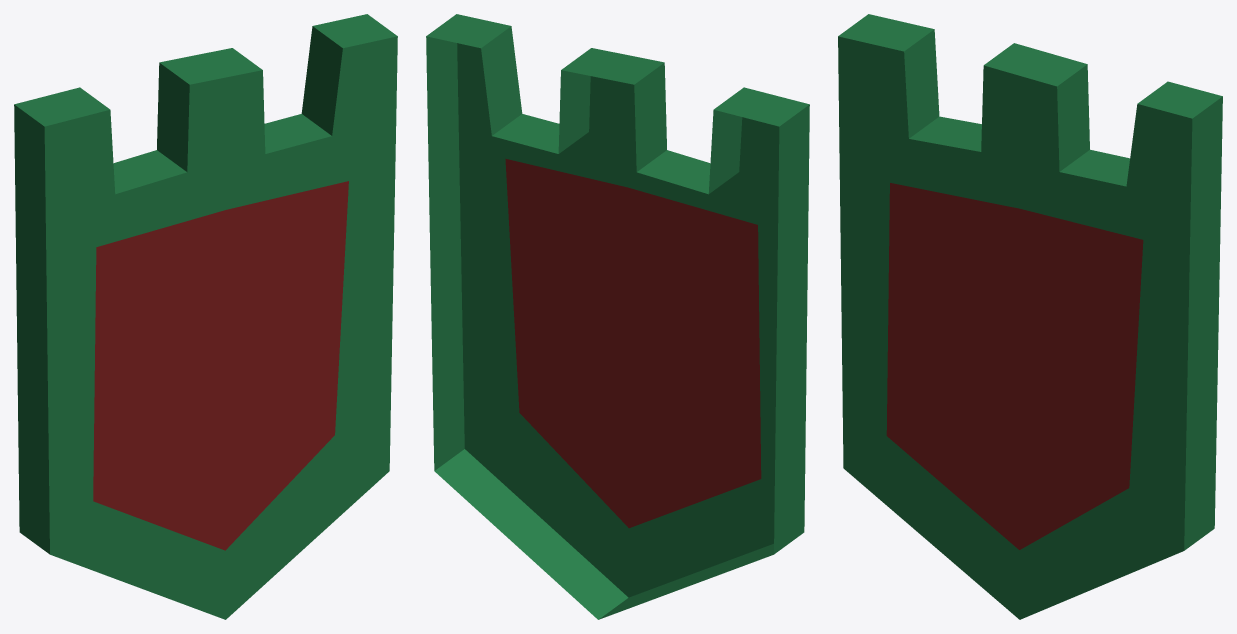
Rendered from cstl_flag_01.fbx.
The picture shows the model from 3 angles, left to right: view 1: azimuth 30°, elevation 25°; view 2: azimuth 150°, elevation 25°; view 3: azimuth 330°, elevation 25°; orthographic projection.
Parts seen in each view (by area): view 1: cstl_flag_01; view 2: cstl_flag_01; view 3: cstl_flag_01.
Boxes of the visible parts, x1=… form: cstl_flag_01: x1=14, y1=14, x2=397, y2=619; cstl_flag_01: x1=426, y1=14, x2=809, y2=619; cstl_flag_01: x1=838, y1=14, x2=1222, y2=619.
Size of the model in its own units: 53.16 by 78.22 by 7.94.
